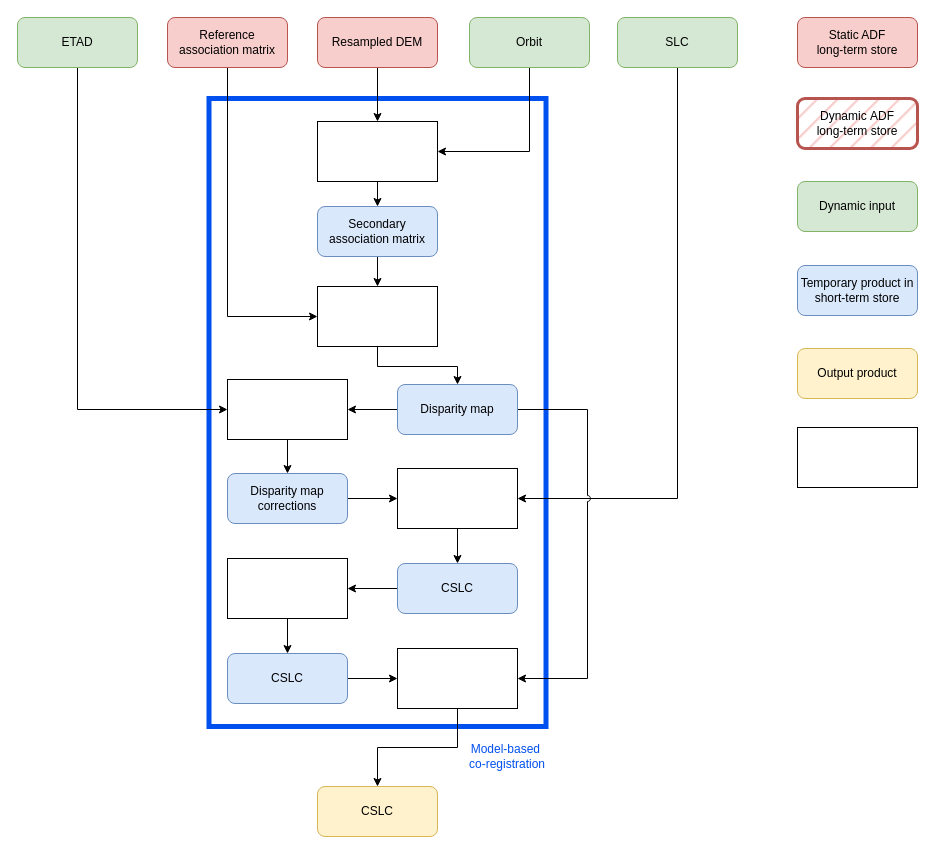
Image size: 936x854. Some labels were removed from this diagram. The centre of each missing label's shape, as x and y in pixels:
"Coordinates conversion" goes at (377,151).
"Disparity map correction" goes at (287,409).
"Flattening" goes at (457,678).
"Griddata" goes at (377,316).
"Processing block" goes at (857,457).
"Reramping" goes at (287,588).
"Resampling" goes at (457,498).
